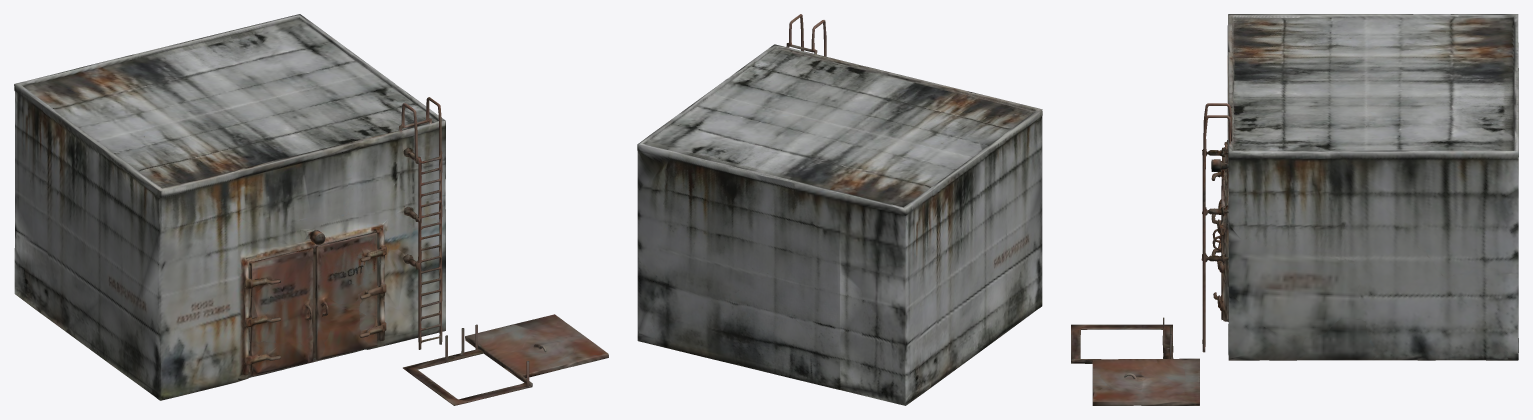
Rendered from duga_hall.glb.
The picture shows the model from 3 angles, left to right: view 1: azimuth 30°, elevation 25°; view 2: azimuth 150°, elevation 25°; view 3: azimuth 270°, elevation 25°; orthographic projection. The views are drawn at different scales.
Visible parts, largest first — view 1: duga_hall; view 2: duga_hall; view 3: duga_hall.
Boxes of the visible parts, box(x1,y1,x2,y2) form: duga_hall: box(14, 14, 608, 405); duga_hall: box(637, 14, 1042, 405); duga_hall: box(1071, 14, 1518, 405).
Size of the model in its own units: 1.85 by 1.11 by 1.9.
1 material, 1 textured.
